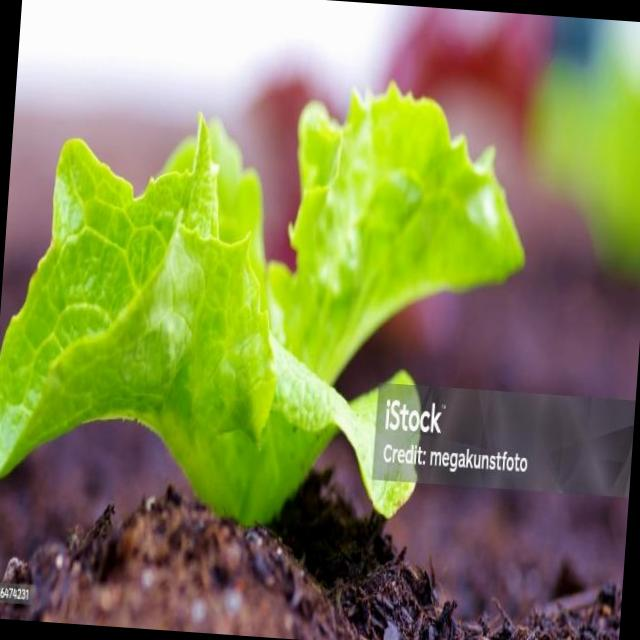Lettuce-Not-Ready-to-Harvest: (0, 82, 527, 529)
